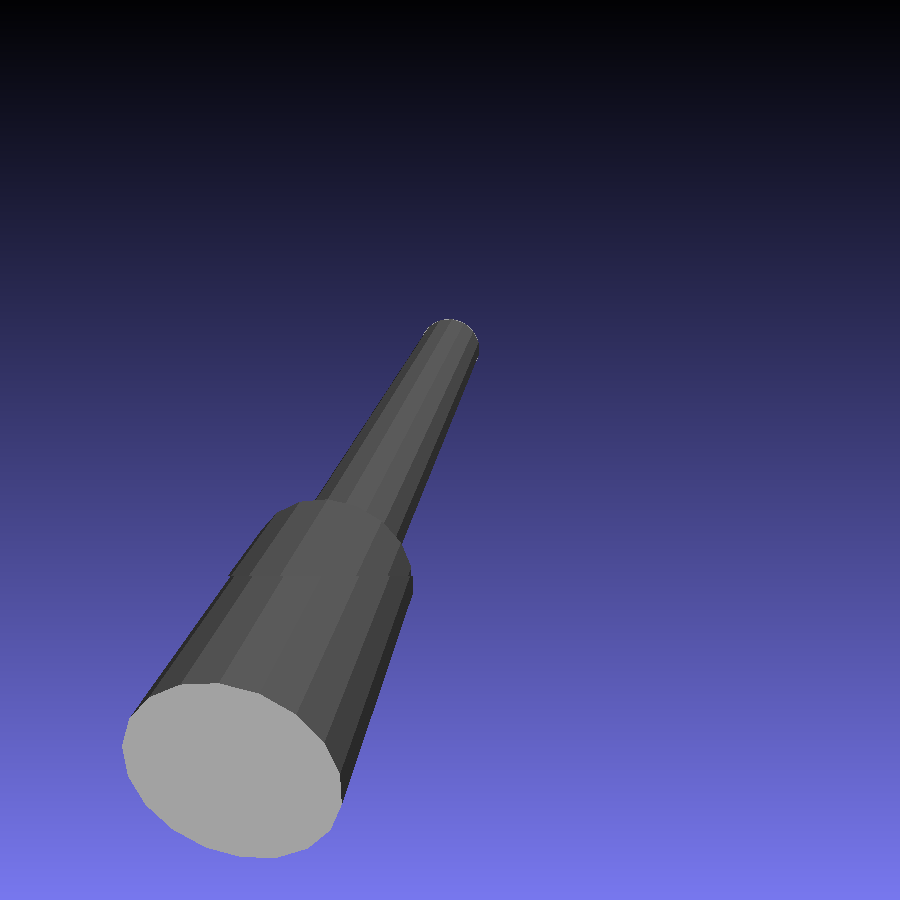cargo_g: (121, 320, 480, 859)
